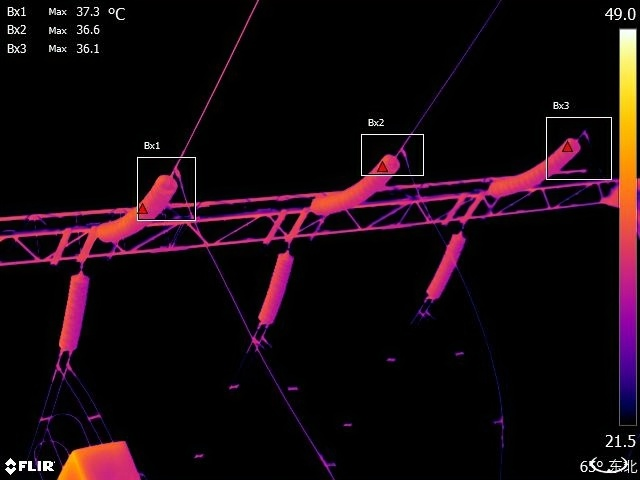clamp: (246, 332, 275, 348), (52, 358, 76, 376), (412, 306, 437, 320), (169, 162, 185, 182), (396, 140, 411, 161), (581, 124, 593, 144)
insulator: (487, 130, 585, 200), (310, 149, 404, 218), (93, 172, 177, 244), (52, 273, 95, 353), (423, 232, 470, 301), (256, 247, 295, 325)
